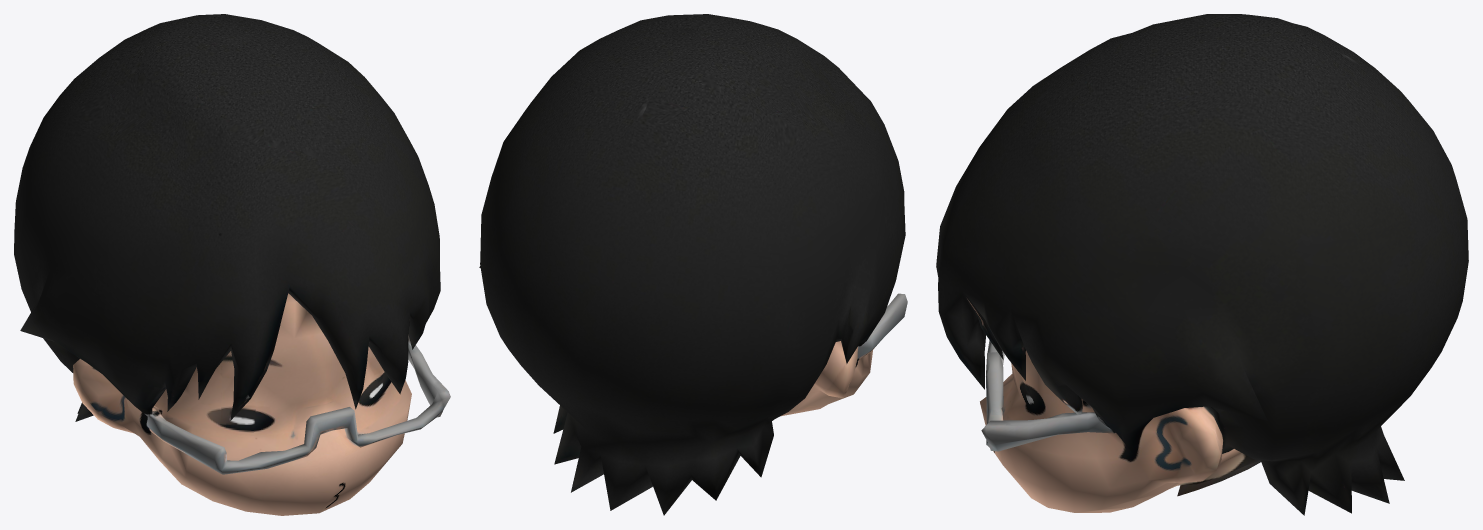
Rendered from head.glb.
The picture shows the model from 3 angles, left to right: view 1: azimuth 30°, elevation 25°; view 2: azimuth 150°, elevation 25°; view 3: azimuth 270°, elevation 25°; orthographic projection. The views are drawn at different scales.
Visible parts, largest first — view 1: meshes[0].002; view 2: meshes[0].002; view 3: meshes[0].002.
Boxes of the visible parts, box(x1,y1,x2,y2) form: meshes[0].002: box(14, 14, 450, 515); meshes[0].002: box(479, 14, 907, 515); meshes[0].002: box(936, 14, 1468, 515).
Bounding box in the file's own units: 0.3714 × 0.4031 × 0.4239.
Materials: 1 (1 with a texture image).
